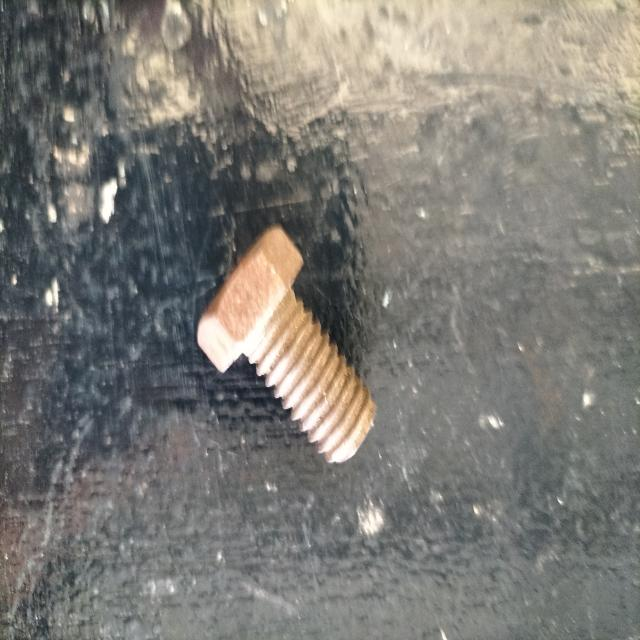bolt: (196, 226, 377, 463)
